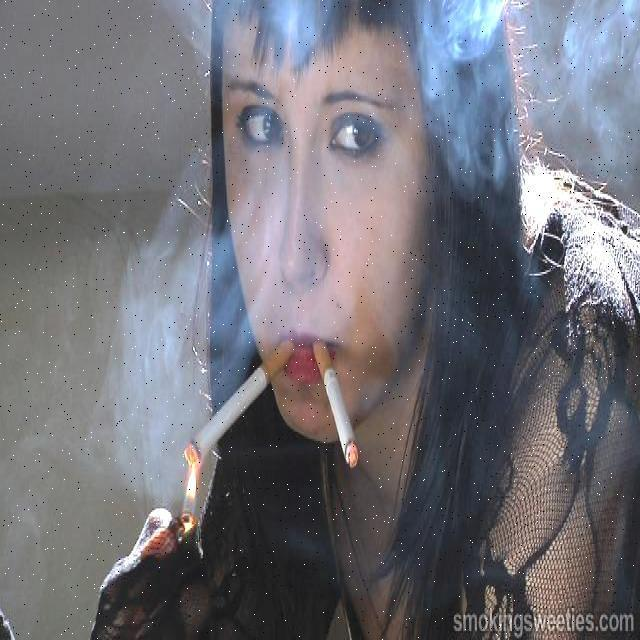smoke: (106, 266, 206, 442), (560, 6, 640, 150)
